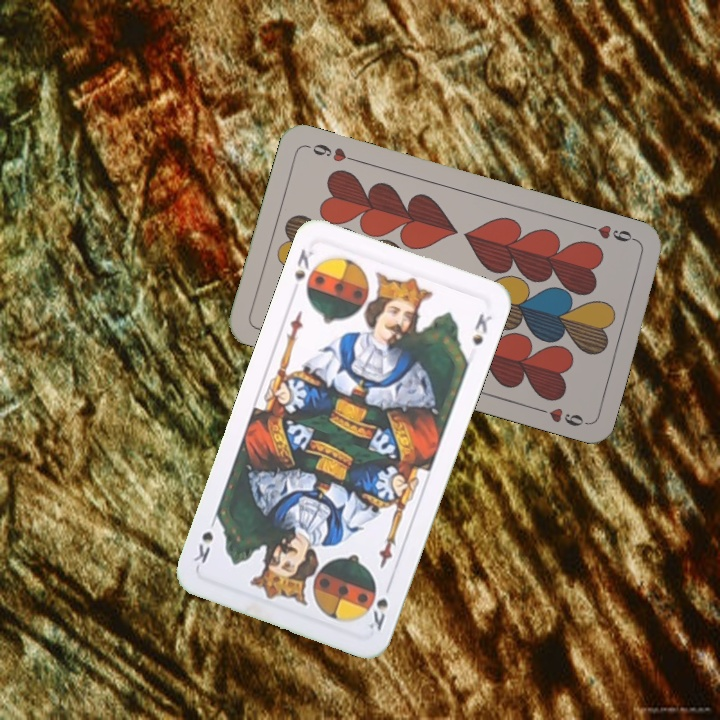H9: (582, 220, 641, 246)
SK: (364, 594, 391, 634), (290, 245, 317, 283)
